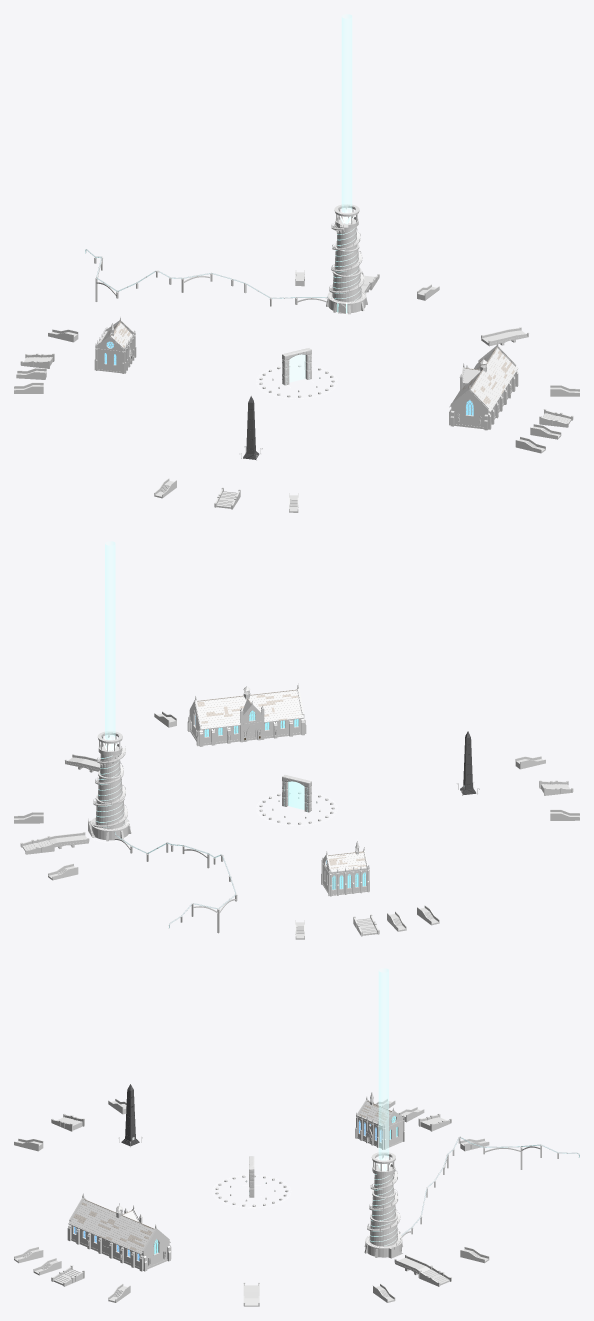
Rendered from bld_portal.glb.
3 views of the same model, one above another, from view 1: azimuth 30°, elevation 25°; view 2: azimuth 150°, elevation 25°; view 3: azimuth 270°, elevation 25° (orthographic). The views are drawn at different scales.
Parts seen in each view (by area): view 1: FARO_Body, FARO_Beam, SALON_HAZANAS_Body, SALON_HAZANAS_Roof, SANTUARIO_Body; view 2: FARO_Body, SALON_HAZANAS_Roof, SALON_HAZANAS_Body, FARO_Beam, SANTUARIO_Body, SANTUARIO_Roof, PORTAL_Arch, OBELISK_Body, PIPE_TF_Pillars; view 3: FARO_Body, SALON_HAZANAS_Roof, SALON_HAZANAS_Body, FARO_Beam, SANTUARIO_Body, OBELISK_Body, SANTUARIO_Roof.
Boxes of the visible parts, x1,y1,x2,y2 form: FARO_Body: [326, 204, 367, 314]; FARO_Beam: [341, 14, 352, 212]; SALON_HAZANAS_Body: [449, 341, 518, 430]; SALON_HAZANAS_Roof: [449, 347, 518, 412]; SANTUARIO_Body: [94, 317, 136, 373]; FARO_Body: [88, 731, 131, 842]; SALON_HAZANAS_Roof: [197, 686, 303, 729]; SALON_HAZANAS_Body: [187, 684, 306, 746]; FARO_Beam: [105, 541, 115, 739]; SANTUARIO_Body: [321, 847, 369, 896]; SANTUARIO_Roof: [328, 839, 366, 871]; PORTAL_Arch: [280, 775, 312, 814]; OBELISK_Body: [460, 731, 476, 794]; PIPE_TF_Pillars: [114, 838, 237, 933]; FARO_Body: [364, 1152, 402, 1259]; SALON_HAZANAS_Roof: [68, 1199, 170, 1254]; SALON_HAZANAS_Body: [67, 1193, 171, 1271]; FARO_Beam: [378, 968, 388, 1160]; SANTUARIO_Body: [355, 1097, 404, 1149]; OBELISK_Body: [121, 1084, 139, 1146]; SANTUARIO_Roof: [359, 1092, 392, 1124].
Size of what is drawn, in the model's own units: 190 by 122 by 218.
24 materials, 14 textured.
